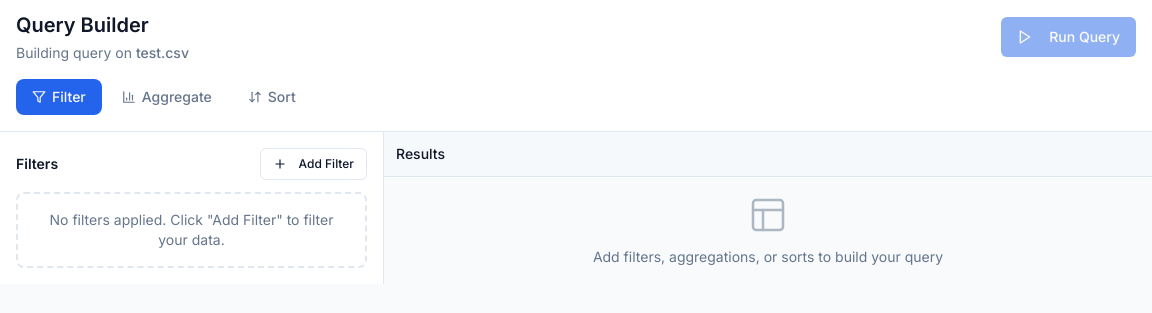
it: QueryBuilder › Run Query Button › should be enabled when sorts are added
What coordinates should you click on to do the following:
click the button "Sort"
I would click on:
 (272, 97)
Its box is left=232, top=79, right=312, bottom=115.
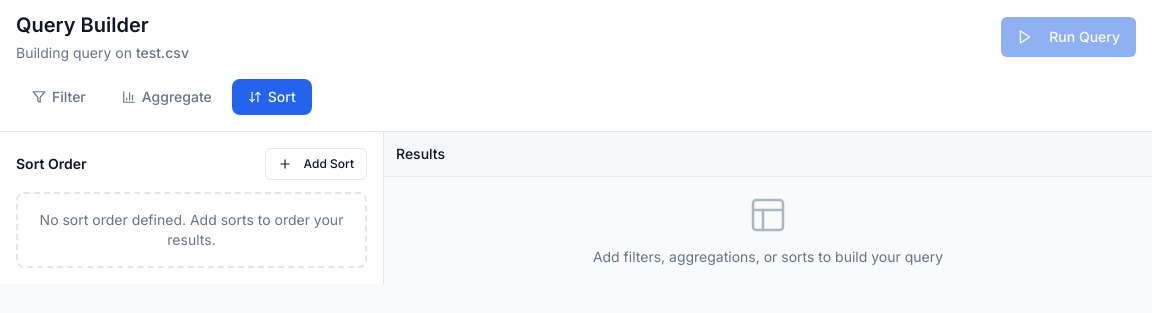
What coordinates should you click on to do the following:
click the button "Add Sort"
I would click on:
 (316, 164)
Its box is left=265, top=148, right=367, bottom=180.
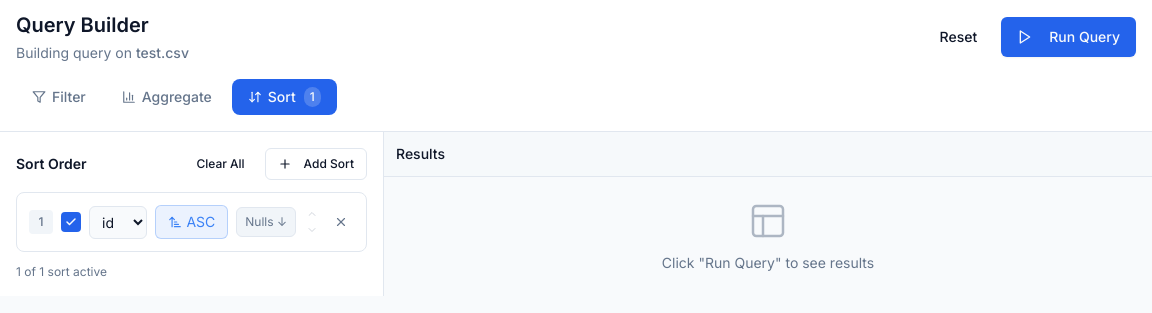
Result: the button "Run Query" is enabled at left=1001, top=17, right=1136, bottom=57
